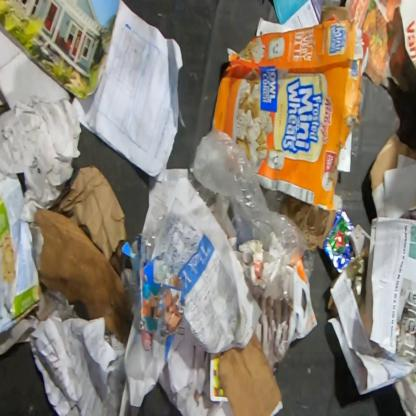cardboard: (211, 15, 369, 210), (35, 206, 133, 344), (122, 234, 185, 337), (217, 329, 282, 415), (368, 133, 416, 194)
metal: (323, 206, 356, 274)
rigid_plastic: (188, 158, 229, 234), (142, 214, 167, 252)
soft_plastic: (193, 130, 317, 285)
